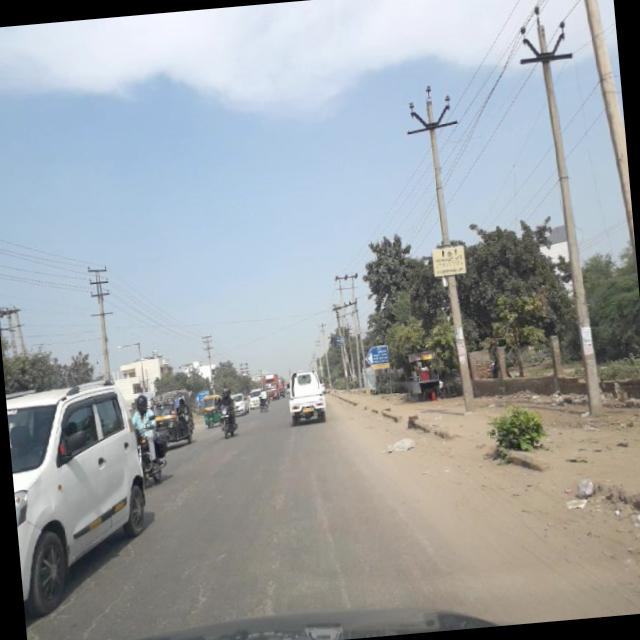pothole: (317, 466, 355, 618), (69, 582, 130, 640), (186, 557, 218, 629)
